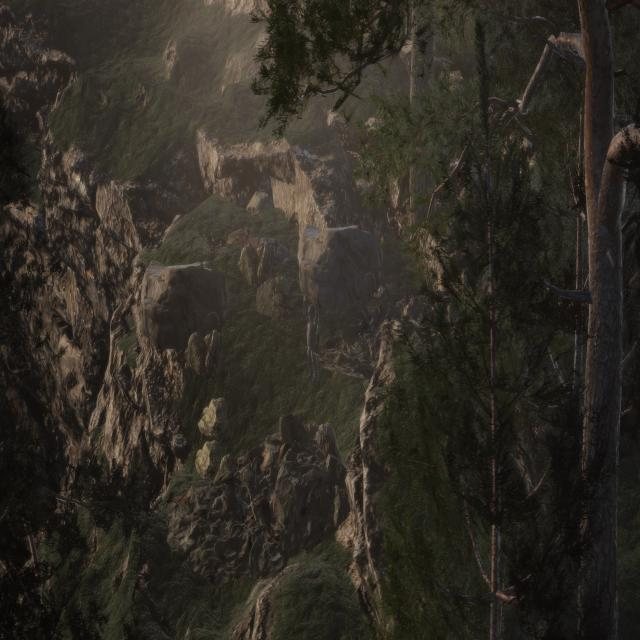Human: (302, 279, 324, 392)
